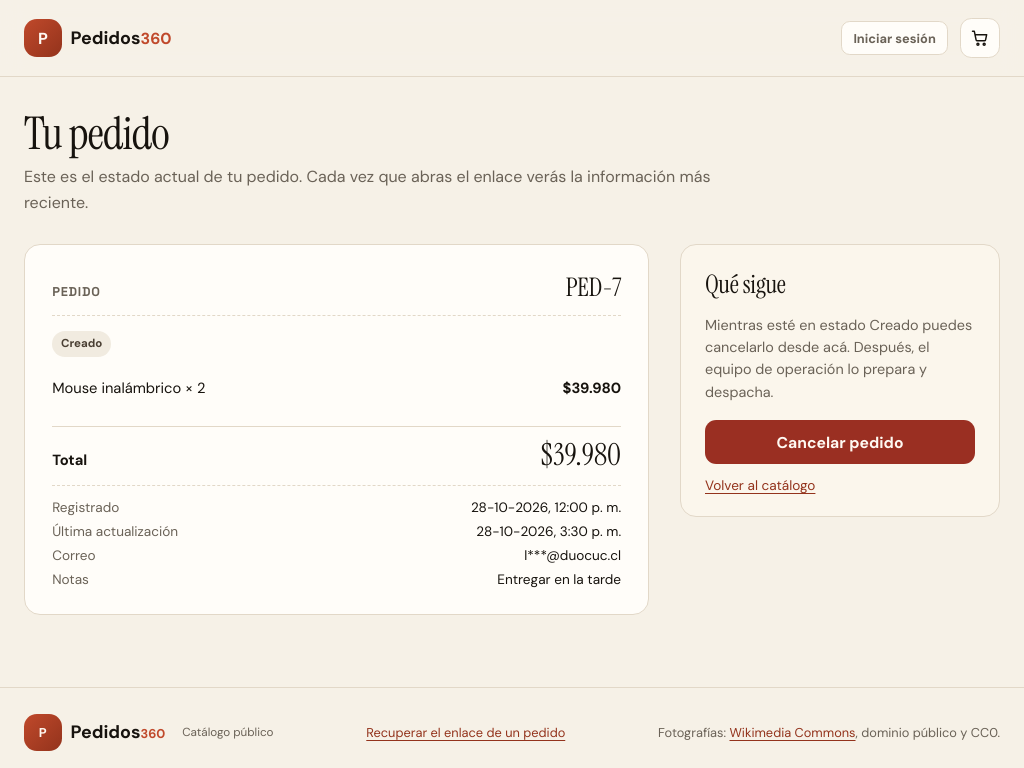
Scenario: GuestTrackingPage › no cancela si se descarta la confirmación
Step 1. Click the button "Cancelar pedido" → (840, 442), box x1=705 y1=420 x2=975 y2=464
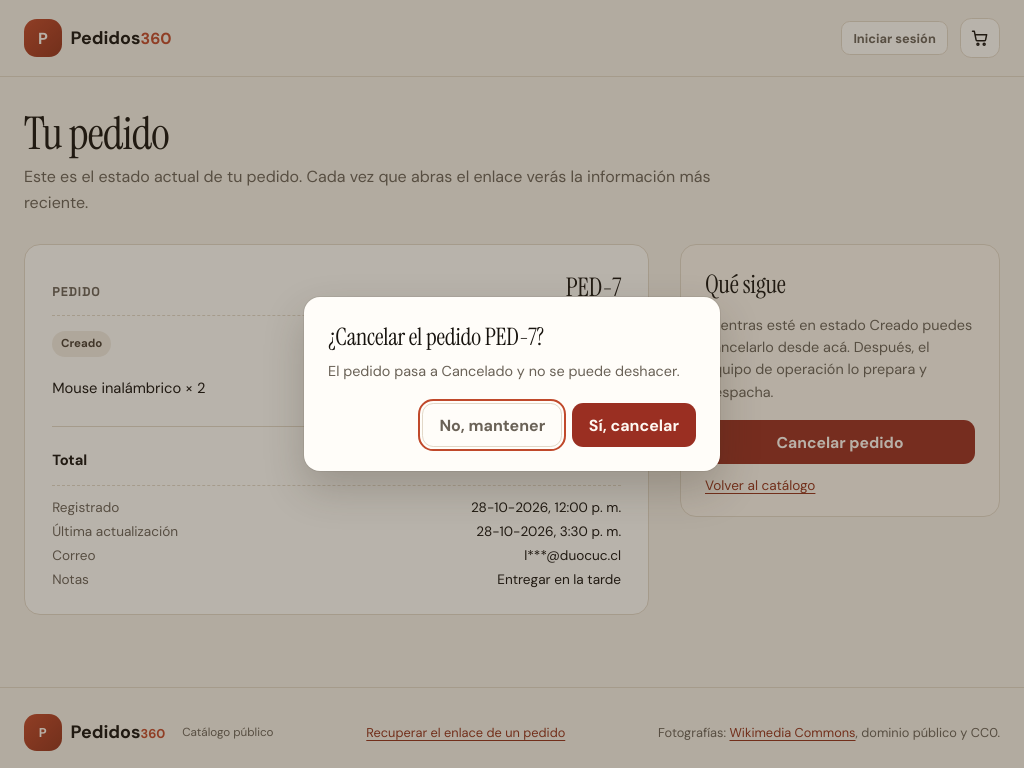
Step 2. Click the button "No, mantener" → (492, 425), box x1=422 y1=403 x2=562 y2=447
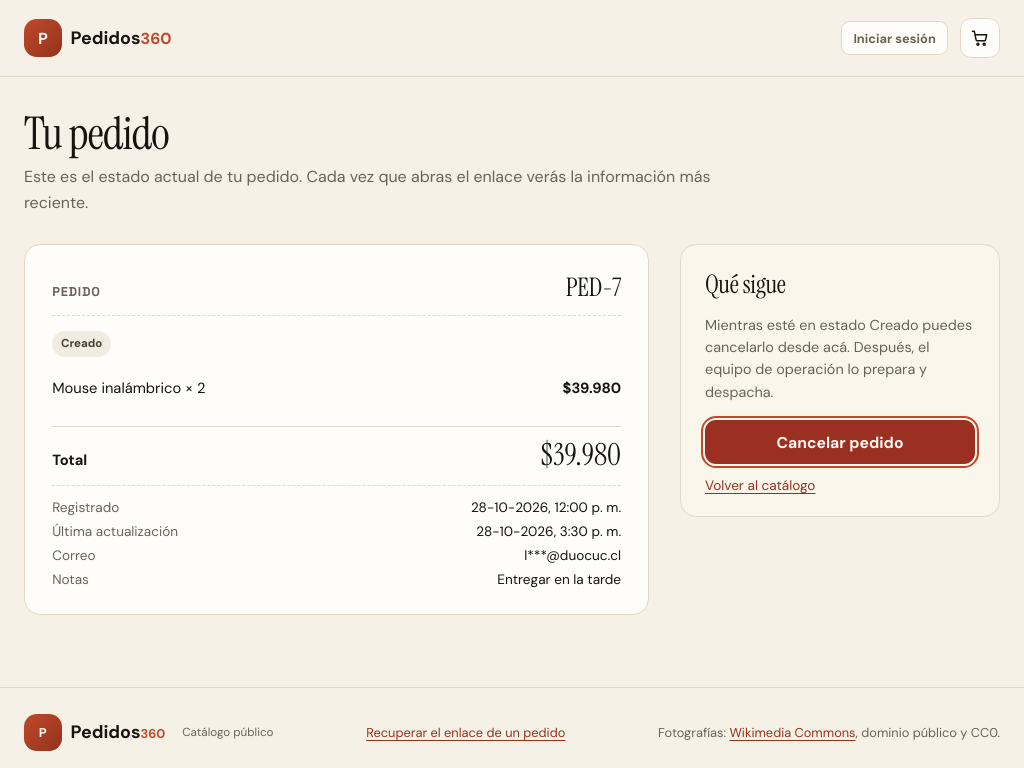
Check: the text "Creado" is shown, box x1=52 y1=330 x2=111 y2=357
Check: the dialog is gone
